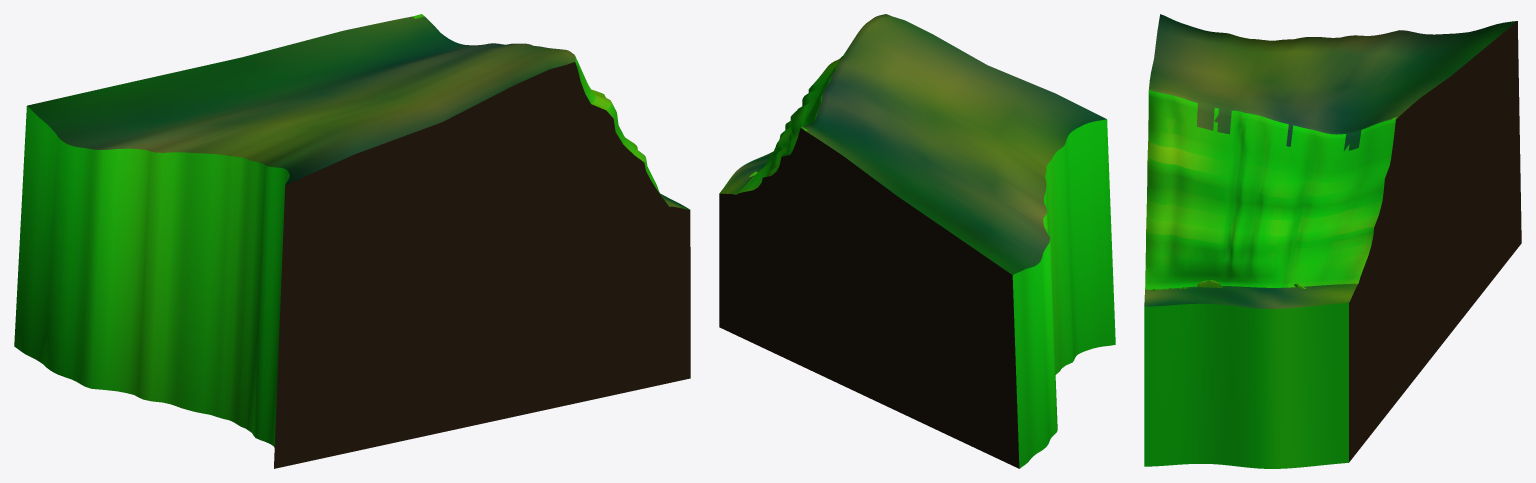
The model's file is SM_ForestRisingCliffs_08.fbx.
3 renders of one model, left to right at view 1: azimuth 30°, elevation 25°; view 2: azimuth 150°, elevation 25°; view 3: azimuth 270°, elevation 25°, orthographic. The views are drawn at different scales.
Parts seen in each view (by area): view 1: SM_ForestRisingCliffs_08; view 2: SM_ForestRisingCliffs_08; view 3: SM_ForestRisingCliffs_08.
Part boxes in pixels (x1,y1,x2,y2): SM_ForestRisingCliffs_08: (14,14,690,468); SM_ForestRisingCliffs_08: (719,14,1115,468); SM_ForestRisingCliffs_08: (1144,14,1521,468).
Bounding box in the file's own units: 73.61 × 52.63 × 49.95.
